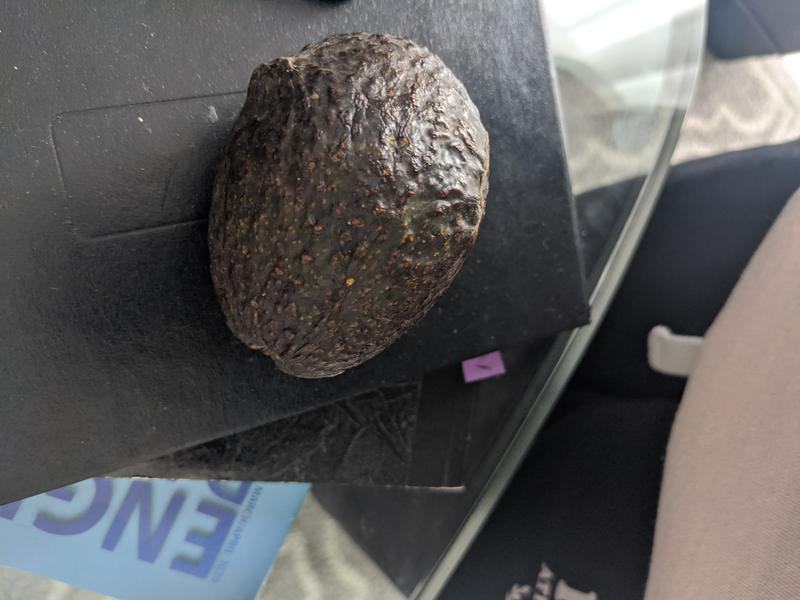avocado: (209, 30, 490, 379)
